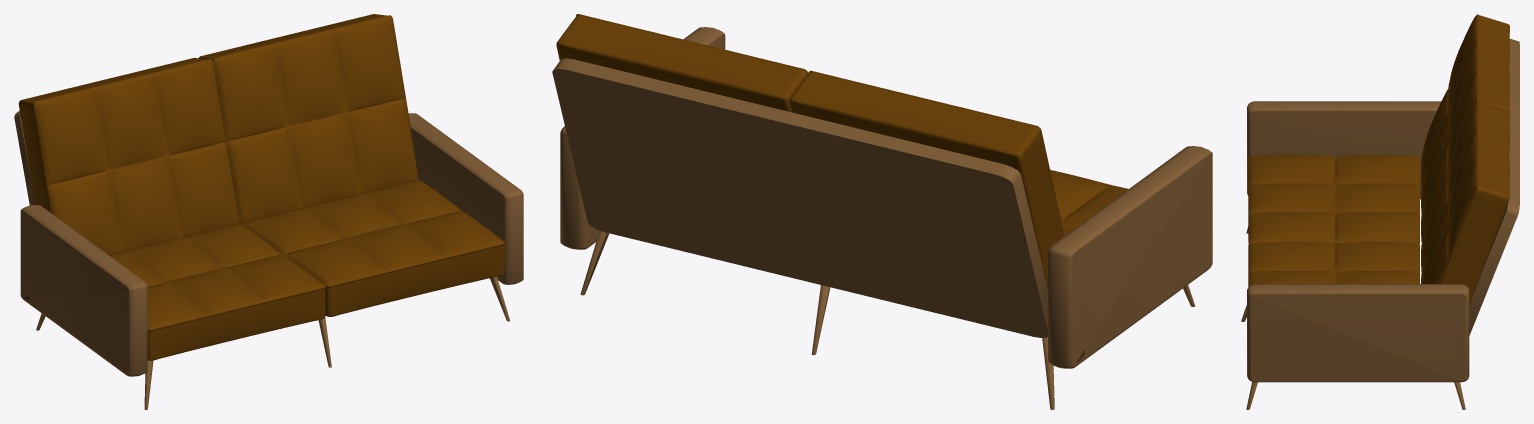
Rendered from SofaMarron.fbx.
3 renders of one model, left to right at view 1: azimuth 30°, elevation 25°; view 2: azimuth 150°, elevation 25°; view 3: azimuth 270°, elevation 25°, orthographic. The views are drawn at different scales.
Visible parts, largest first — view 1: patas.001; view 2: patas.001; view 3: patas.001.
Part boxes in pixels (x1,y1,x2,y2): patas.001: [14, 14, 523, 409]; patas.001: [552, 14, 1212, 409]; patas.001: [1241, 14, 1519, 409].
Bounding box in the file's own units: 211 × 113 × 129.
